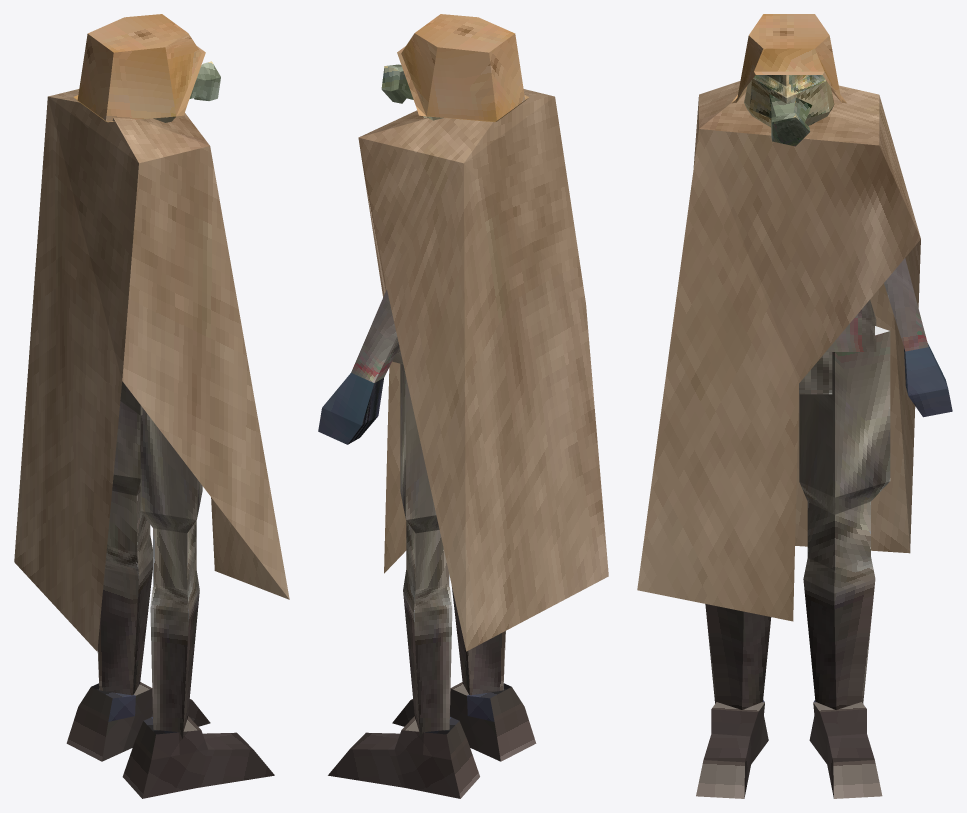
The model's file is ps1-game-character.glb.
The picture shows the model from 3 angles, left to right: view 1: azimuth 30°, elevation 25°; view 2: azimuth 150°, elevation 25°; view 3: azimuth 270°, elevation 25°; orthographic projection.
Parts seen in each view (by area): view 1: Cube.005; view 2: Cube.005; view 3: Cube.005.
Boxes of the visible parts, box(x1,y1,x2,y2) form: Cube.005: box(14, 14, 289, 798); Cube.005: box(318, 14, 608, 798); Cube.005: box(637, 14, 952, 798).
Bounding box in the file's own units: 1.29 × 4.81 × 1.9.
Materials: 1 (1 with a texture image).
